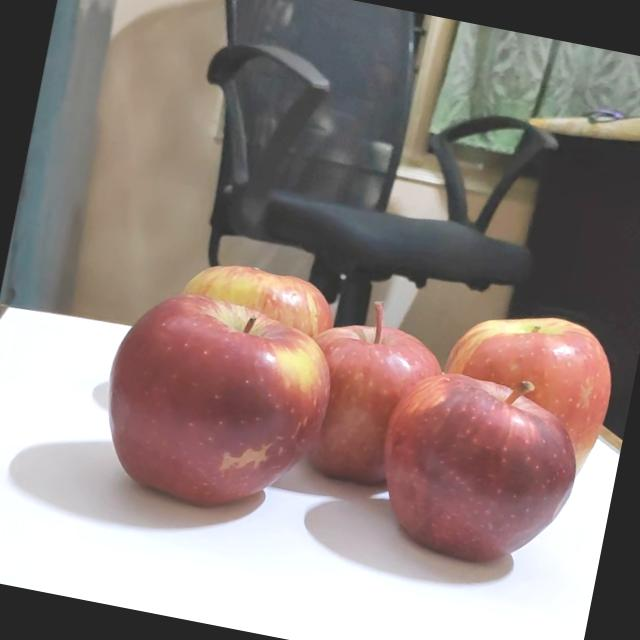apple: (86, 272, 350, 522), (368, 357, 594, 574), (273, 279, 457, 492), (428, 292, 624, 476), (156, 241, 348, 396)
